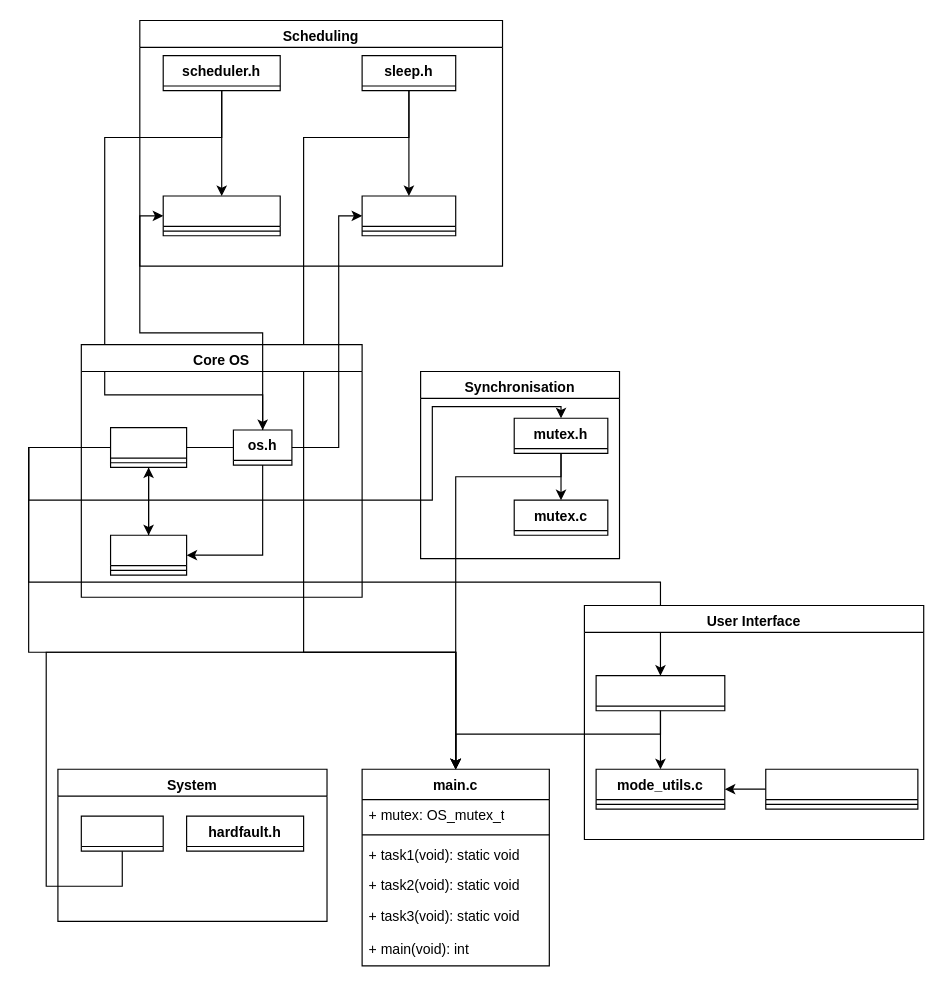
The diagram is 944 pixels wide and 990 high, and some of its shapes have lost their labels. Each missing label, with the centre of its shape:
"mode_utils.h" belongs at [660,693].
"mode_utils_asm.s" belongs at [841,788].
"os.c" belongs at [148,554].
"os_asm.s" belongs at [148,446].
"scheduler.c" belongs at [221,215].
"sleep.c" belongs at [408,215].
"utils.h" belongs at [121,833].
